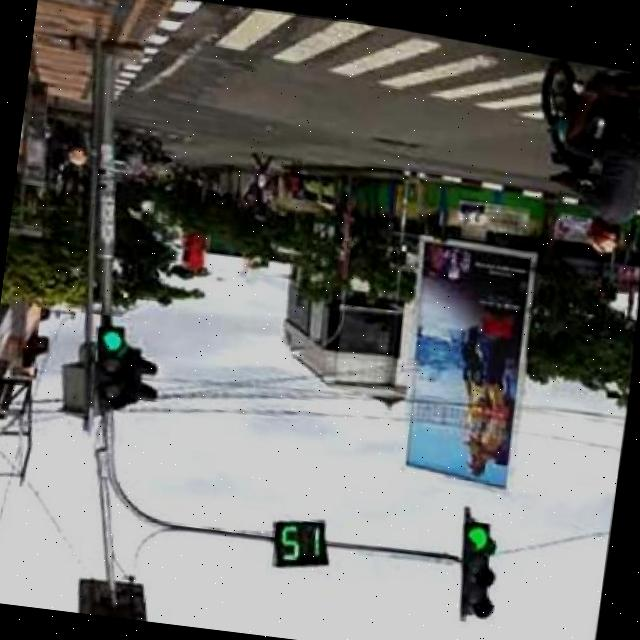green_light: (424, 498, 539, 640), (60, 309, 166, 447)
